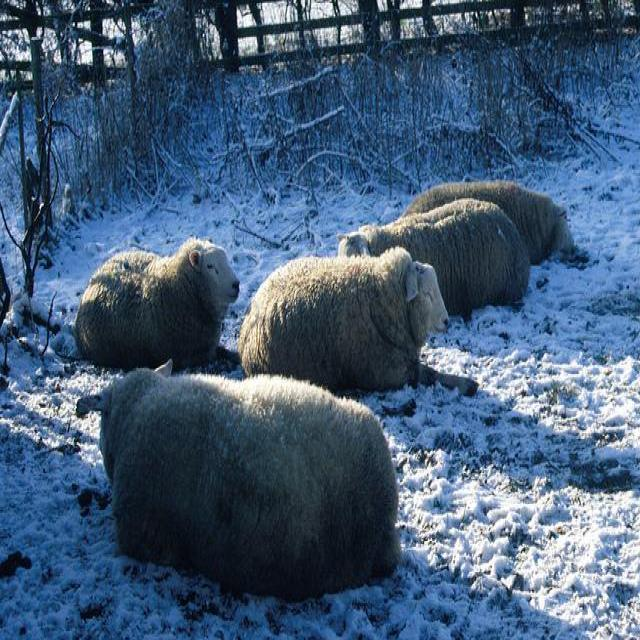Sheep: (77, 358, 403, 591), (239, 247, 480, 402), (337, 197, 532, 321), (77, 235, 242, 368), (400, 180, 575, 264)
